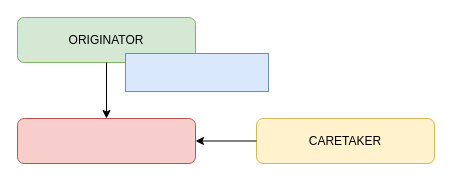
Image size: 452x181. Some labels were removed from this diagram. The shapes that lost their labels are listed below. From the top down, each one's centre as x and y in pixels, then its label:
the point at 196,72: CreateMemento(); SetMemento(memento);
the point at 106,141: << MEMENTO >>
